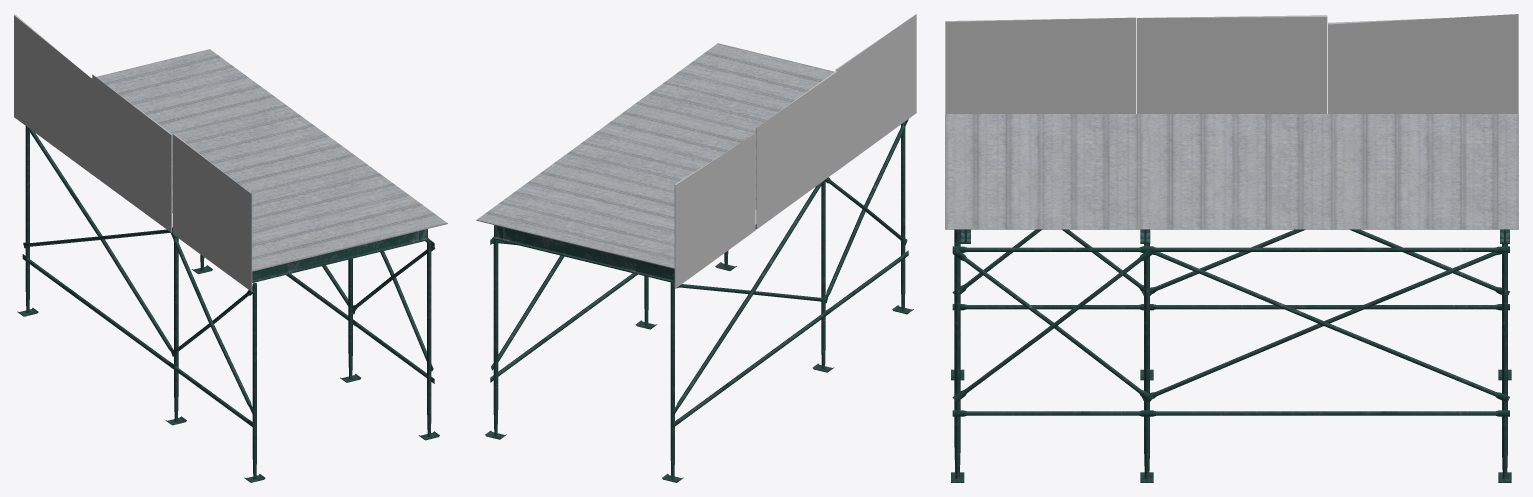
The model's file is Shed.FBX.
The picture shows the model from 3 angles, left to right: view 1: azimuth 30°, elevation 25°; view 2: azimuth 150°, elevation 25°; view 3: azimuth 270°, elevation 25°; orthographic projection. The views are drawn at different scales.
Parts seen in each view (by area): view 1: scaffold_sidewalk; view 2: scaffold_sidewalk; view 3: scaffold_sidewalk.
Boxes of the visible parts, x1=… form: scaffold_sidewalk: x1=14, y1=14, x2=447, y2=482; scaffold_sidewalk: x1=476, y1=14, x2=916, y2=482; scaffold_sidewalk: x1=945, y1=14, x2=1518, y2=482.
Size of the model in its own units: 0.3345 by 0.4819 by 0.7.
